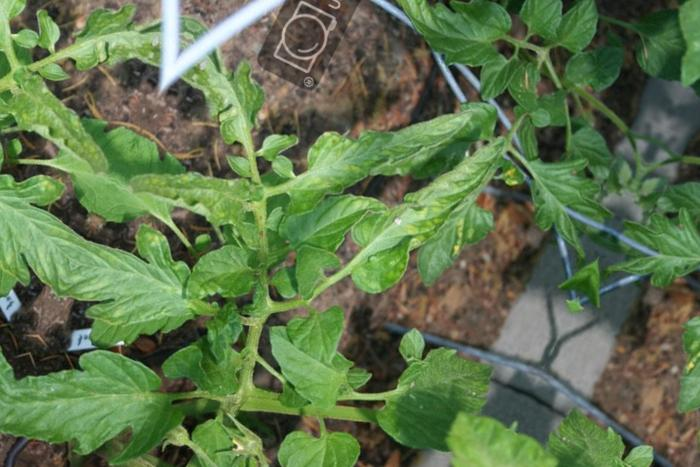Tomato leaf mosaic virus: (49, 194, 260, 388), (0, 300, 204, 467), (290, 57, 473, 243), (353, 319, 508, 467), (363, 0, 528, 94), (180, 217, 282, 326), (253, 405, 366, 467), (276, 294, 358, 377)
